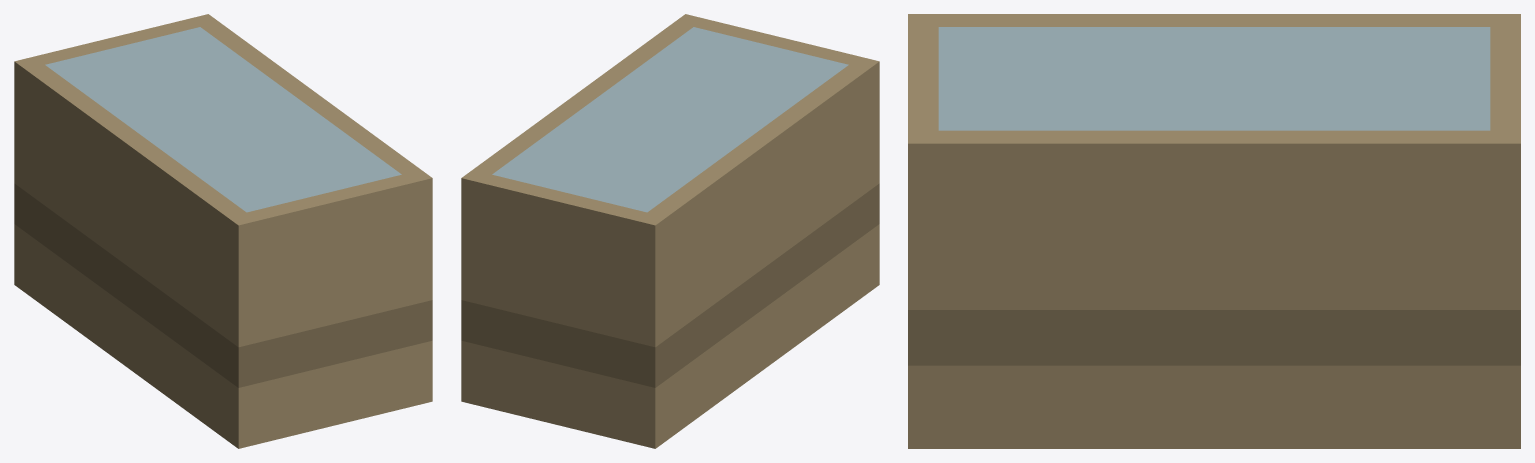
File: bañera_bronce_01.glb
3 renders of one model, left to right at view 1: azimuth 30°, elevation 25°; view 2: azimuth 150°, elevation 25°; view 3: azimuth 270°, elevation 25°, orthographic. The views are drawn at different scales.
Parts seen in each view (by area): view 1: bañera_bronce; view 2: bañera_bronce; view 3: bañera_bronce.
Part boxes in pixels (x1=…): bañera_bronce: x1=14, y1=14, x2=432, y2=448; bañera_bronce: x1=461, y1=14, x2=879, y2=448; bañera_bronce: x1=908, y1=14, x2=1520, y2=448.
Size of the model in its own units: 1 by 1.1 by 2.
